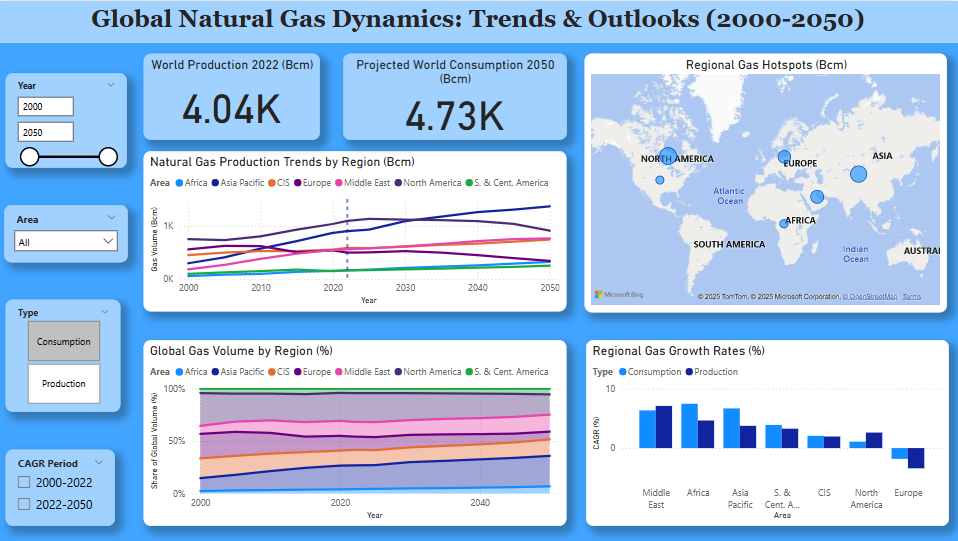

The dashboard page shown, as its layout file describes it:
{"tool":"powerbi","page":{"name":"Page 1","canvas":[1280,720],"ordinal":0},"visuals":[{"type":"lineChart","title":"Natural Gas Production Trends by Region (Bcm)","fields":{"Category":["natural_gas_outlook_data_for_powerbi.Year"],"Y":["Sum(natural_gas_outlook_data_for_powerbi.Value_Bcm)"],"Series":["natural_gas_outlook_data_for_powerbi.Area"]},"box":[194,200,564,214],"z":0},{"type":"hundredPercentStackedAreaChart","title":"Global Gas Volume by Region (%)","fields":{"Category":["natural_gas_outlook_data_for_powerbi.Year"],"Y":["Sum(natural_gas_outlook_data_for_powerbi.Value_Bcm)"],"Series":["natural_gas_outlook_data_for_powerbi.Area"]},"box":[194,452,564,248],"z":1000},{"type":"clusteredColumnChart","title":"Regional Gas Growth Rates (%)","fields":{"Category":["natural_gas_outlook_cagr_for_powerbi.Area"],"Y":["Sum(natural_gas_outlook_cagr_for_powerbi.CAGR_%)"],"Series":["natural_gas_outlook_cagr_for_powerbi.Type"]},"box":[784,452,484,248],"z":2000},{"type":"map","title":"Regional Gas Hotspots (Bcm)","fields":{"Category":["natural_gas_outlook_data_for_powerbi.Area"],"Size":["Sum(natural_gas_outlook_data_for_powerbi.Value_Bcm)"]},"box":[781.7,70,483.3,345],"z":3000},{"type":"card","title":"World Production 2022 (Bcm)","fields":{"Values":["Sum(natural_gas_outlook_data_for_powerbi.Value_Bcm)"]},"box":[193.3,70,235,115],"z":4000},{"type":"slicer","fields":{"Values":["natural_gas_outlook_data_for_powerbi.Year"]},"box":[10,95,161.7,126.7],"z":6000},{"type":"slicer","fields":{"Values":["natural_gas_outlook_data_for_powerbi.Area"]},"box":[8.3,271.7,165,76.7],"z":7000},{"type":"slicer","fields":{"Values":["natural_gas_outlook_data_for_powerbi.Type"]},"box":[10,398.3,153.3,150],"z":8000},{"type":"slicer","fields":{"Values":["natural_gas_outlook_cagr_for_powerbi.CAGR_Period"]},"box":[10,598,146,102],"z":9000},{"type":"textbox","box":[0,0,1280,56.2],"z":10000},{"type":"card","title":"Projected World Consumption 2050 (Bcm)","fields":{"Values":["Sum(natural_gas_outlook_data_for_powerbi.Value_Bcm)"]},"box":[460,70,298.3,115],"z":11000}]}

Visuals, with their boxes in screenshot pixels (x1, y1, x2, y2), scaled from the page's 1280x720 canvas onto the 958x541 screenshot:
"Natural Gas Production Trends by Region (Bcm)" lineChart: 145/150/567/311
"Global Gas Volume by Region (%)" hundredPercentStackedAreaChart: 145/340/567/526
"Regional Gas Growth Rates (%)" clusteredColumnChart: 587/340/949/526
"Regional Gas Hotspots (Bcm)" map: 585/53/947/312
"World Production 2022 (Bcm)" card: 145/53/321/139
slicer - natural_gas_outlook_data_for_powerbi.Year: 7/71/129/167
slicer - natural_gas_outlook_data_for_powerbi.Area: 6/204/130/262
slicer - natural_gas_outlook_data_for_powerbi.Type: 7/299/122/412
slicer - natural_gas_outlook_cagr_for_powerbi.CAGR_Period: 7/449/117/526
textbox: 0/0/957/42
"Projected World Consumption 2050 (Bcm)" card: 344/53/568/139
